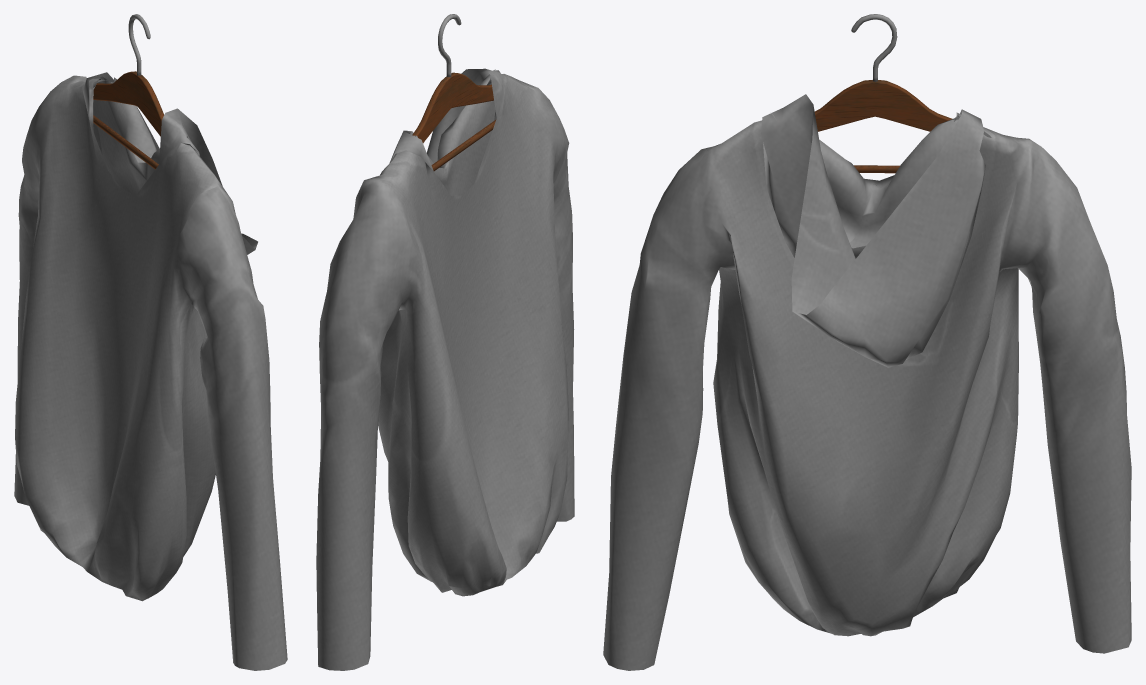
The model's file is SM_Cloth_B3.fbx.
3 views of the same model, side by side, from view 1: azimuth 30°, elevation 25°; view 2: azimuth 150°, elevation 25°; view 3: azimuth 270°, elevation 25° (orthographic). The views are drawn at different scales.
Visible parts, largest first — view 1: SM_Cloth_B3; view 2: SM_Cloth_B3; view 3: SM_Cloth_B3.
Part boxes in pixels (x1,y1,x2,y2): SM_Cloth_B3: [14, 14, 287, 670]; SM_Cloth_B3: [316, 14, 574, 670]; SM_Cloth_B3: [603, 14, 1131, 670].
Bounding box in the file's own units: 29.7 × 72.18 × 96.18.
Materials: 2 (2 with a texture image).
